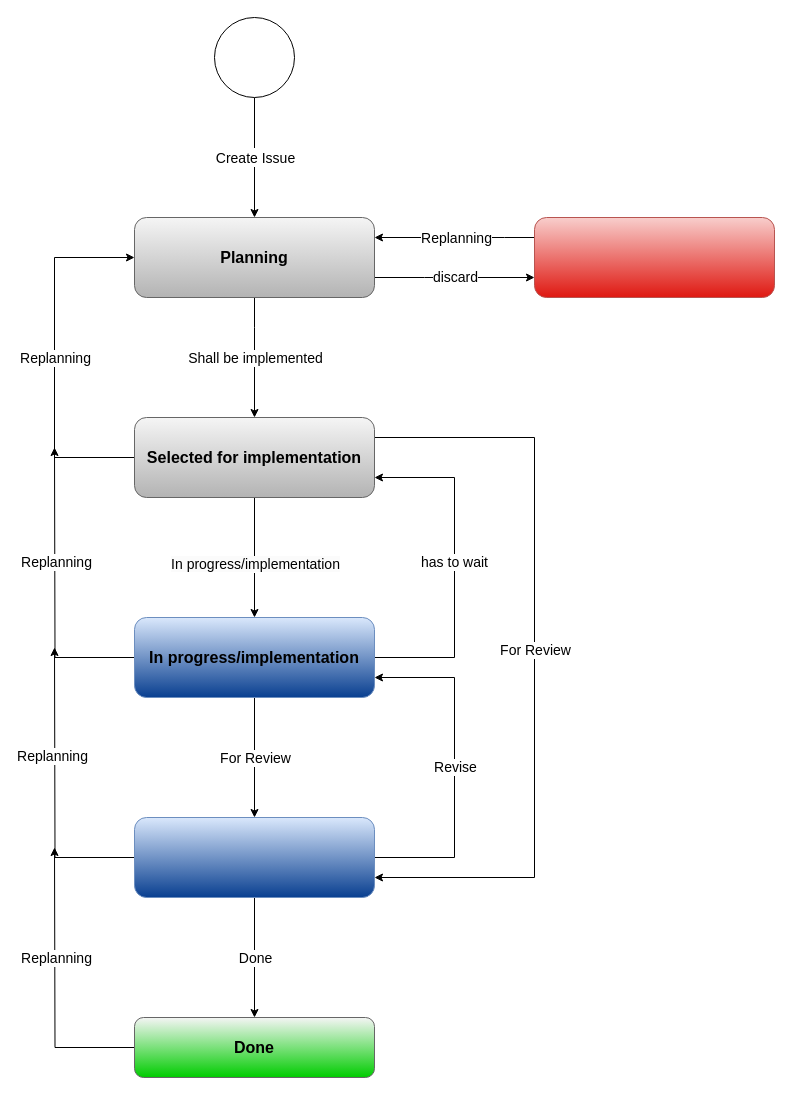
This 793x1095 diagram has some shape labels left out. The shapes that lost their labels are listed below. From the top down, each one's box as (x1, y1, x2, y2) in pixels, then its label:
(534, 216, 774, 298): Discarded
(134, 816, 374, 898): In Review
